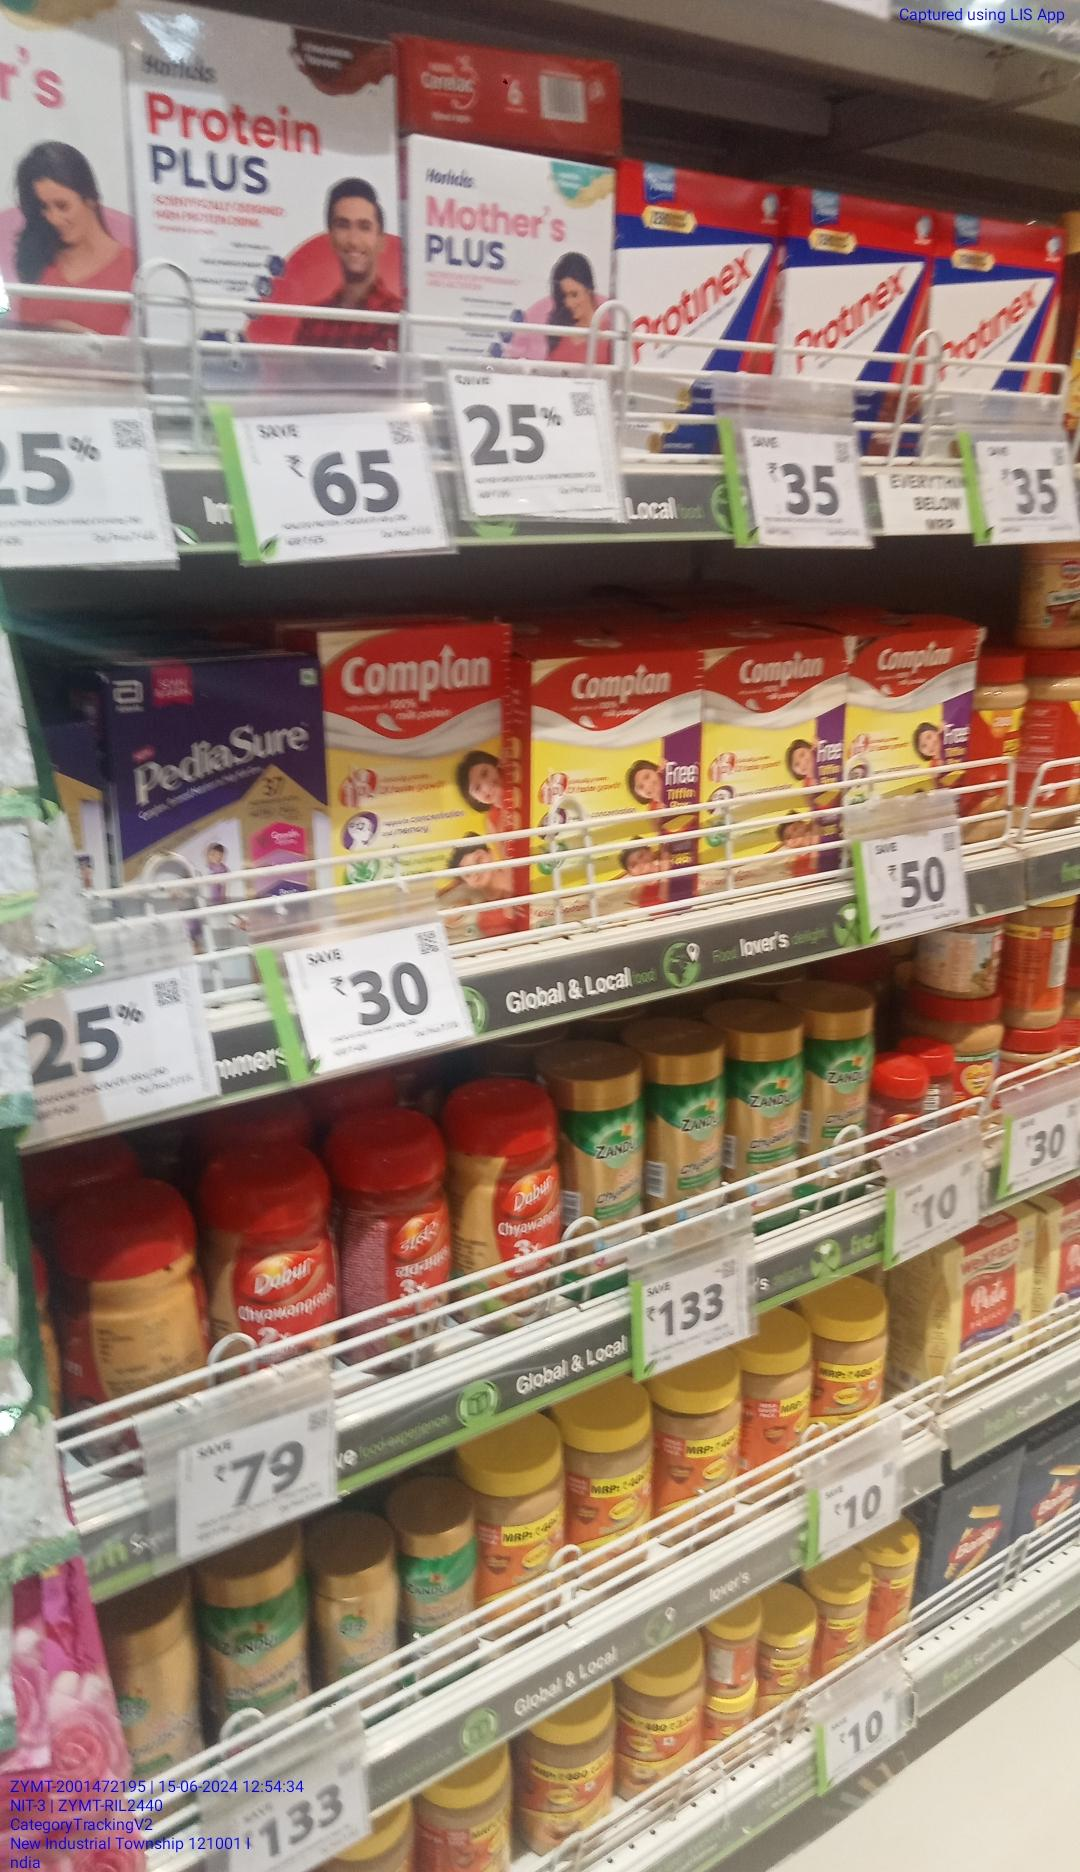COMPLAN_KESAR_BADAM_500_GMS_PACK: (329, 630, 505, 927), (530, 648, 699, 914), (703, 647, 845, 876)
